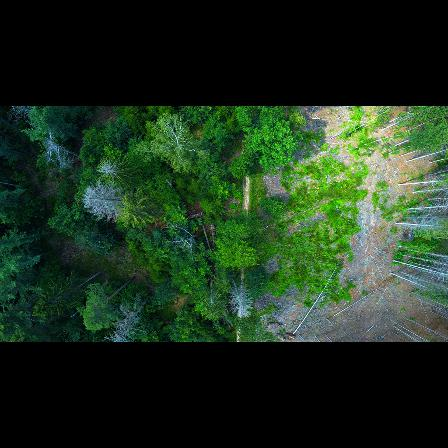Dead: (98, 294, 150, 342), (79, 182, 131, 220), (39, 132, 83, 169), (228, 279, 257, 322)
Sick: (93, 156, 132, 181)
